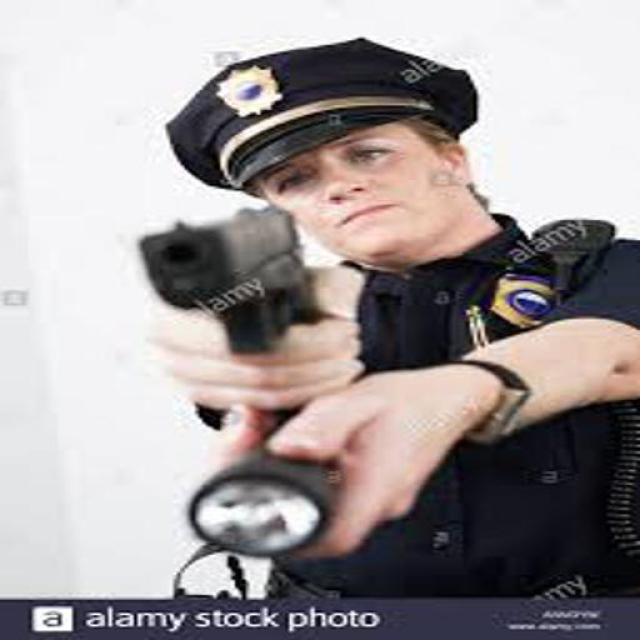pistol: (123, 197, 329, 367)
